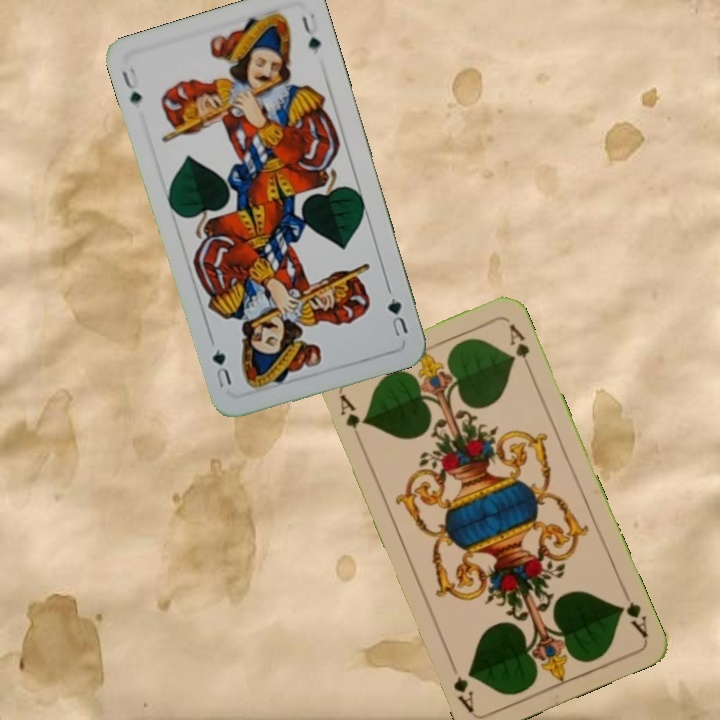GA: (614, 584, 651, 640), (335, 390, 365, 447)
GU: (383, 293, 411, 341), (118, 62, 145, 108)
